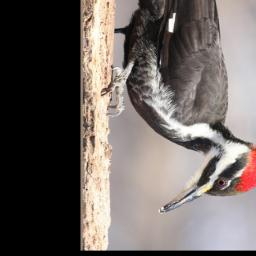Woodpecker: (105, 0, 256, 217)
